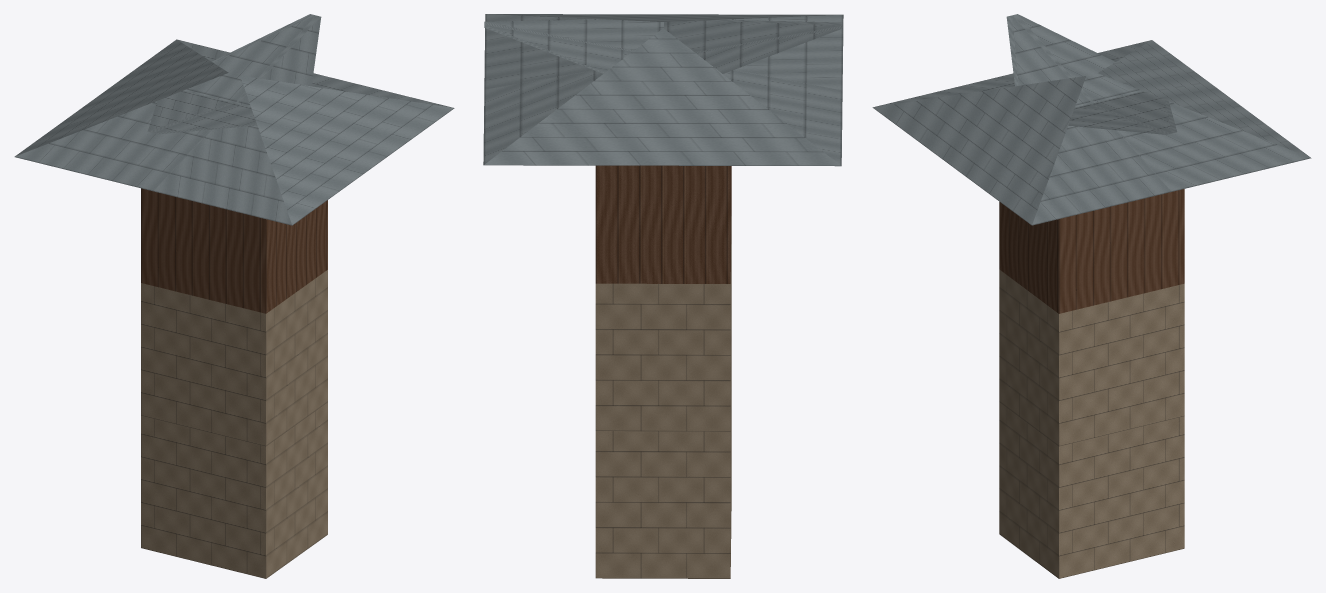
The model's file is bld_c41_46_190.gltf.
3 renders of one model, left to right at view 1: azimuth 30°, elevation 25°; view 2: azimuth 150°, elevation 25°; view 3: azimuth 270°, elevation 25°, orthographic. The views are drawn at different scales.
Parts seen in each view (by area): view 1: bld_c41_46_190; view 2: bld_c41_46_190; view 3: bld_c41_46_190.
Boxes of the visible parts, <box> form: bld_c41_46_190: <box>14,14,454,578</box>; bld_c41_46_190: <box>483,14,843,578</box>; bld_c41_46_190: <box>872,14,1311,578</box>.
Size of the model in its own units: 6.82 by 8 by 6.82.
3 materials, 3 textured.
